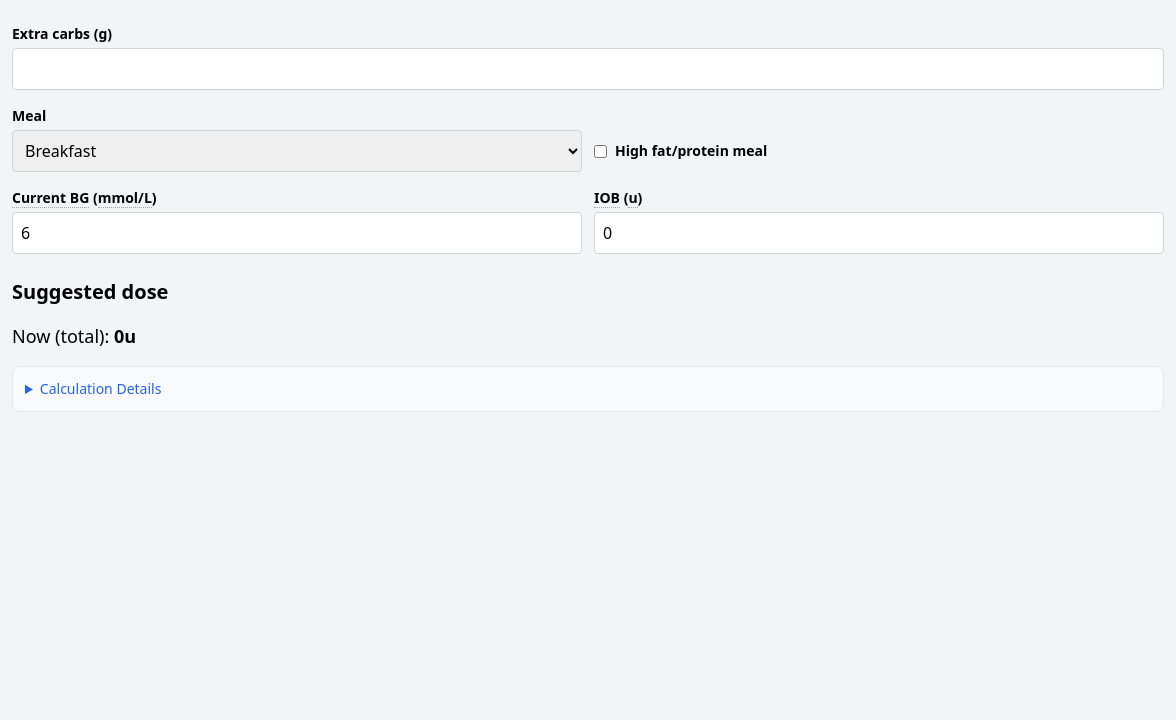
Scenario: DoseRecommendation › shows injection plan when there are multiple injections or delayed doses
Add a large amount of carbs to trigger multiple injections (over max per shot)
Step 1. Type "150" into the number field labelled "Extra carbs (g)" → (588, 69), box [12,48,1164,90]
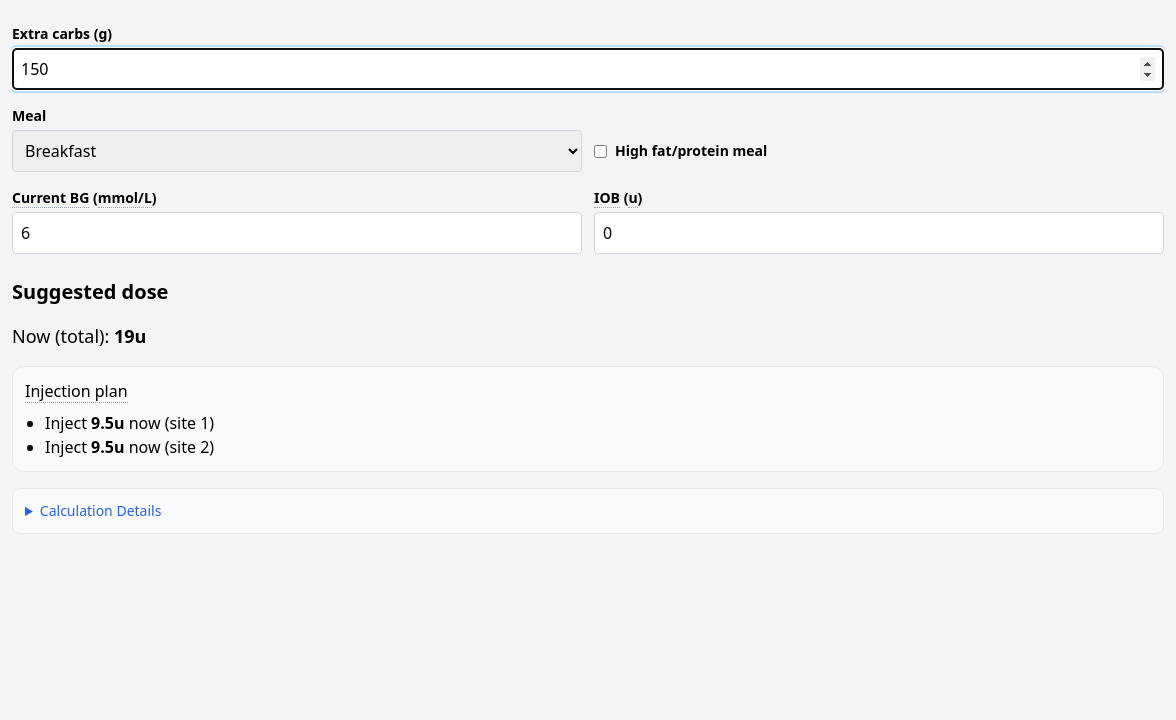
Result: the text "Injection plan" is shown at [25,380,128,403]
